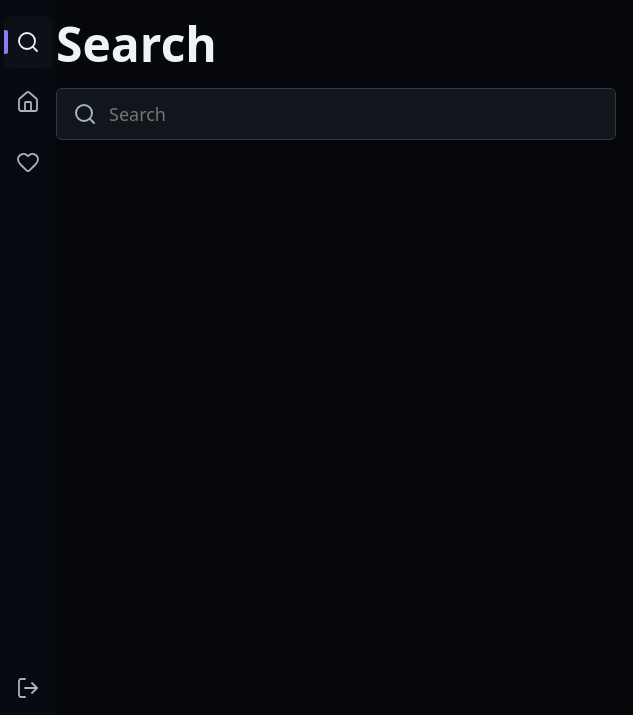
Test: SearchPage › shows a focusable retry action after an error
This screenshot has width=633, height=715.
Press Enter in the search field named "Search media", box [109, 89, 599, 139]
Type "anonymous" into the search field named "Search media".
click(354, 114); type("anonymous")  # box [109, 89, 599, 139]
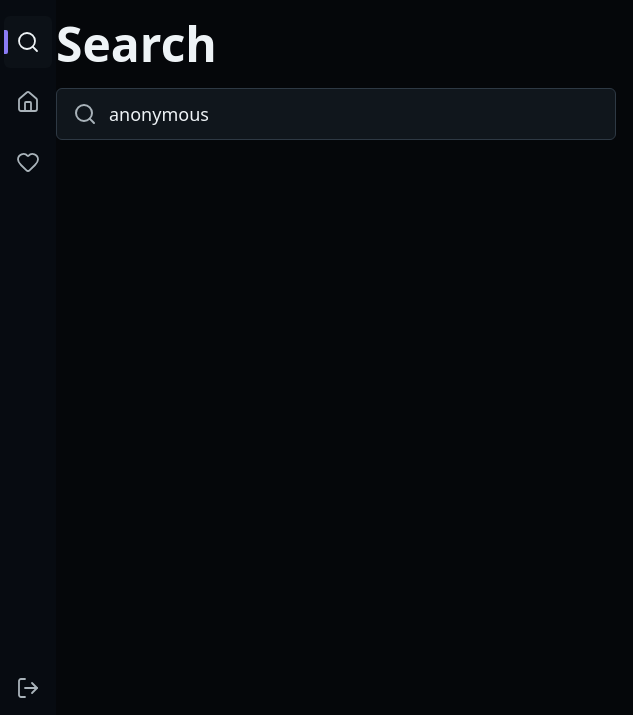
Press Enter in the search field named "Search media", box [109, 89, 599, 139]
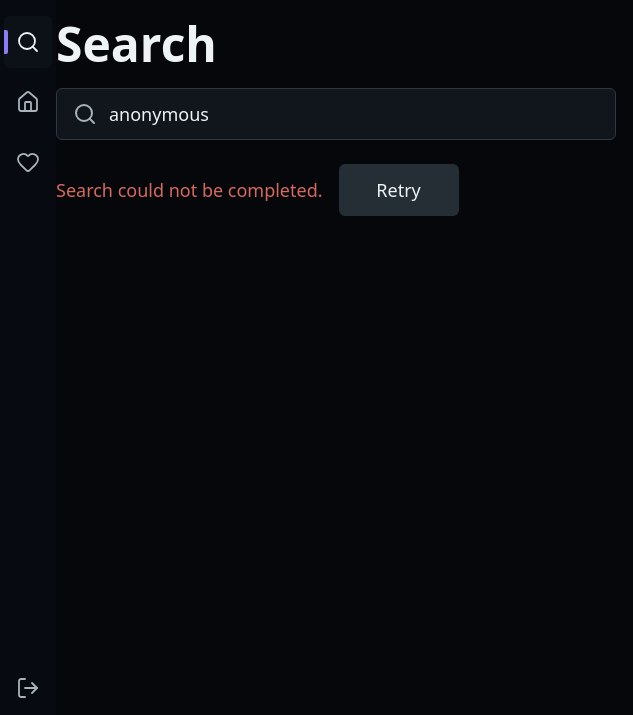
Expected: the message reads "Search could not be completed.", [56, 178, 323, 202]
Click the button with aria-label "Retry search".
click(399, 190)  # box [339, 164, 459, 216]
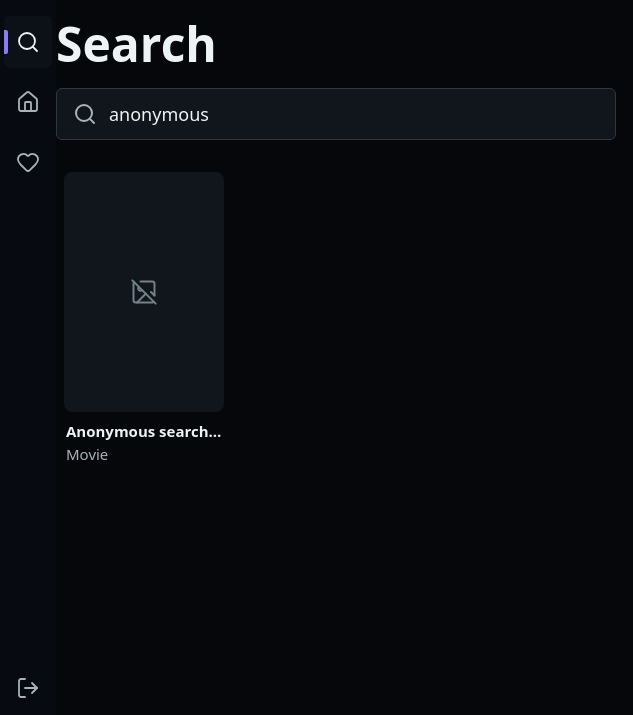
Expected: the button with aria-label "Open Anonymous search result" is shown, [56, 164, 232, 472]
